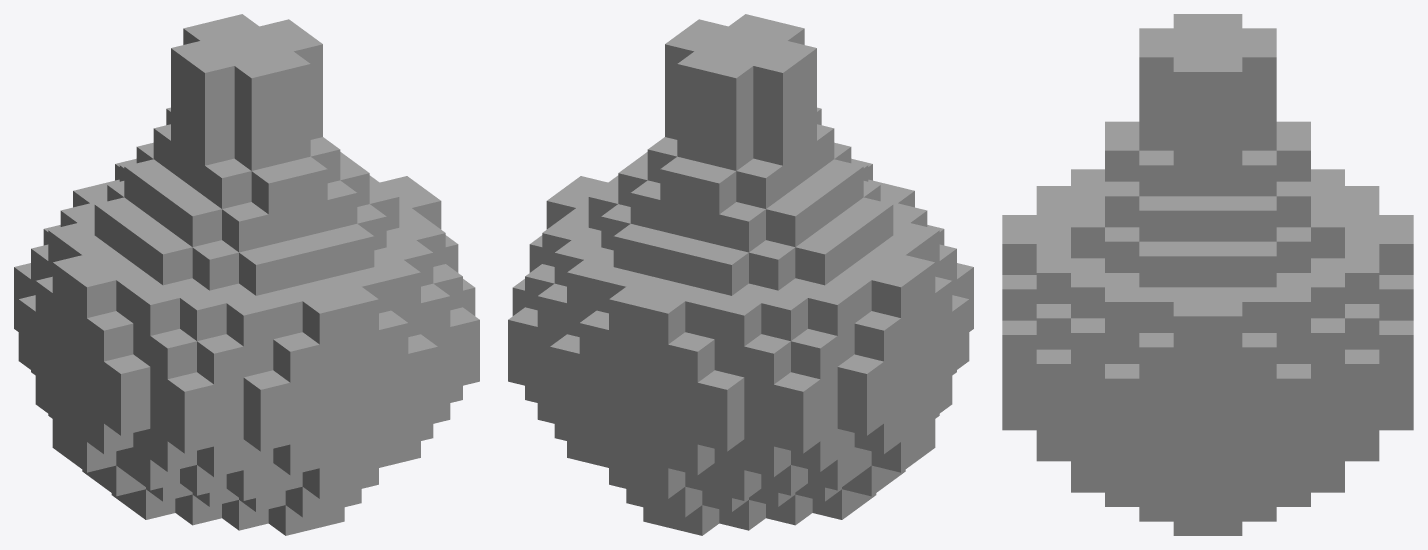
The model's file is potion Bottle.fbx.
The picture shows the model from 3 angles, left to right: view 1: azimuth 30°, elevation 25°; view 2: azimuth 150°, elevation 25°; view 3: azimuth 270°, elevation 25°; orthographic projection.
Visible parts, largest first — view 1: potionBottle; view 2: potionBottle; view 3: potionBottle.
Boxes of the visible parts, x1,y1,x2,y2 form: potionBottle: (14, 14, 479, 535); potionBottle: (508, 14, 973, 535); potionBottle: (1002, 14, 1413, 535).
Bounding box in the file's own units: 36 × 42 × 36.
